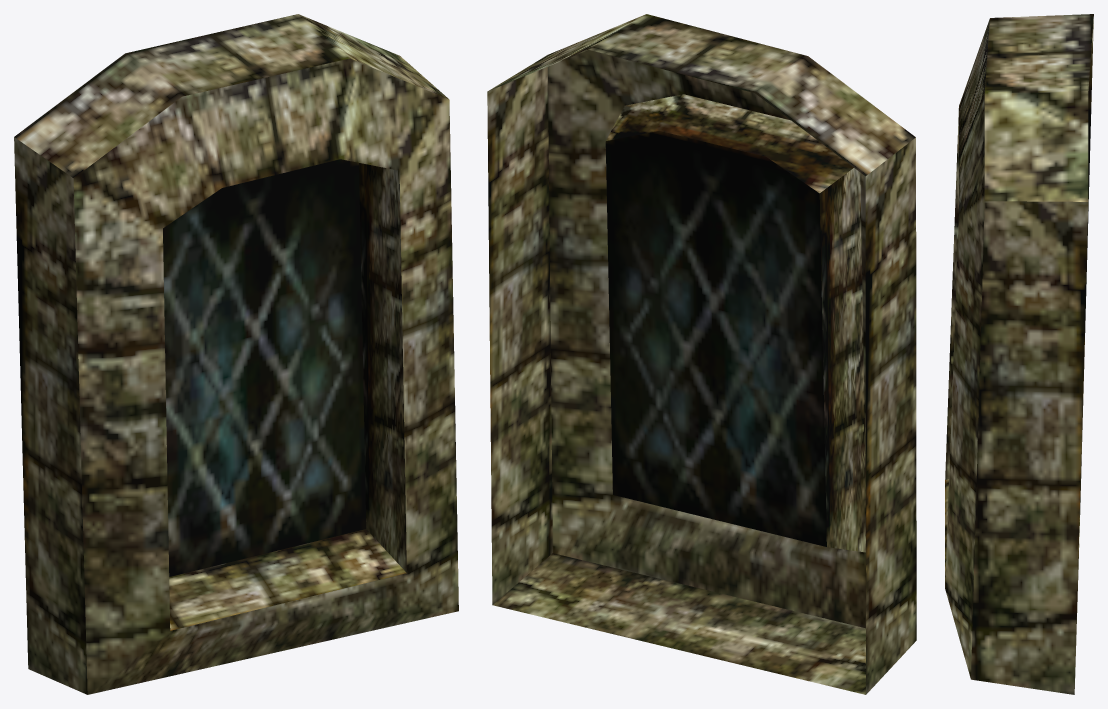
The picture shows the model from 3 angles, left to right: view 1: azimuth 30°, elevation 25°; view 2: azimuth 150°, elevation 25°; view 3: azimuth 270°, elevation 25°; orthographic projection. The views are drawn at different scales.
Visible parts, largest first — view 1: cc73; view 2: cc73; view 3: cc73.
Part boxes in pixels (x1,y1,x2,y2): cc73: (14,14,458,694); cc73: (487,14,916,694); cc73: (945,14,1093,694).
Bounding box in the file's own units: 1.23 × 1.8 × 0.437.
Materials: 1 (1 with a texture image).
